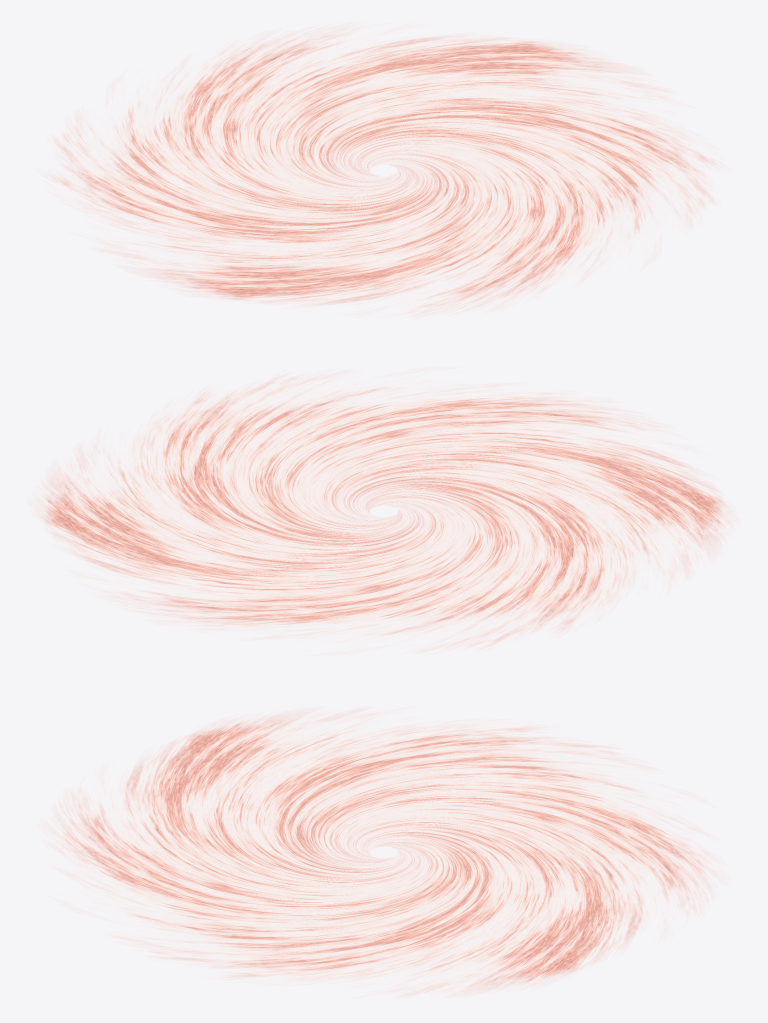
The model's file is clear_devil_ground.glb.
3 renders of one model, top to bottom at view 1: azimuth 30°, elevation 25°; view 2: azimuth 150°, elevation 25°; view 3: azimuth 270°, elevation 25°, orthographic.
Parts seen in each view (by area): view 1: devil_ground; view 2: devil_ground; view 3: devil_ground.
Part boxes in pixels (x1,y1,x2,y2): devil_ground: [54, 29, 713, 311]; devil_ground: [42, 377, 725, 645]; devil_ground: [60, 713, 707, 991].
Size of the model in its own units: 32 by 0 by 32.
Materials: 1 (1 with a texture image).
